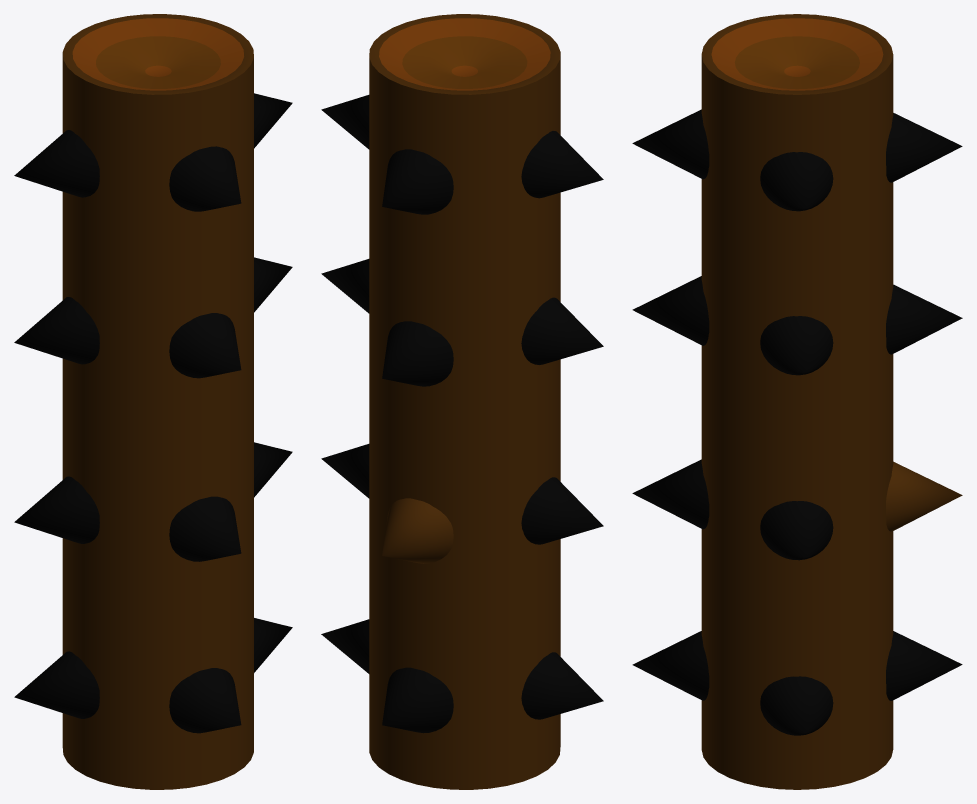
The model's file is ThornLog.fbx.
The picture shows the model from 3 angles, left to right: view 1: azimuth 30°, elevation 25°; view 2: azimuth 150°, elevation 25°; view 3: azimuth 270°, elevation 25°; orthographic projection.
Parts seen in each view (by area): view 1: Cylinder; view 2: Cylinder; view 3: Cylinder.
Boxes of the visible parts, x1,y1,x2,y2 form: Cylinder: [14, 14, 292, 789]; Cylinder: [321, 14, 603, 789]; Cylinder: [632, 14, 962, 789].
Size of the model in its own units: 338 by 800 by 345.
